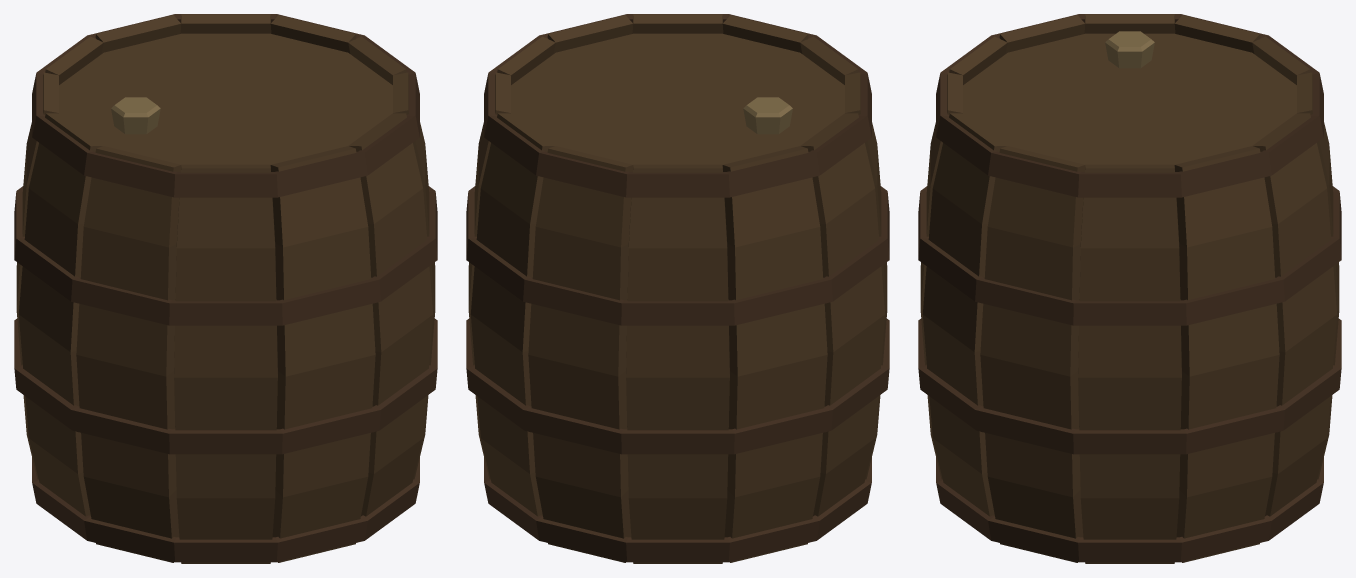
The model's file is barrel.gltf.
The picture shows the model from 3 angles, left to right: view 1: azimuth 30°, elevation 25°; view 2: azimuth 150°, elevation 25°; view 3: azimuth 270°, elevation 25°; orthographic projection.
Visible parts, largest first — view 1: Barrel_Closed; view 2: Barrel_Closed; view 3: Barrel_Closed.
Boxes of the visible parts, x1,y1,x2,y2 form: Barrel_Closed: (14,14,437,563); Barrel_Closed: (466,14,889,563); Barrel_Closed: (918,14,1341,563).
Size of the model in its own units: 0.8947 by 0.9418 by 0.8947.
Materials: 2 (2 with a texture image).
